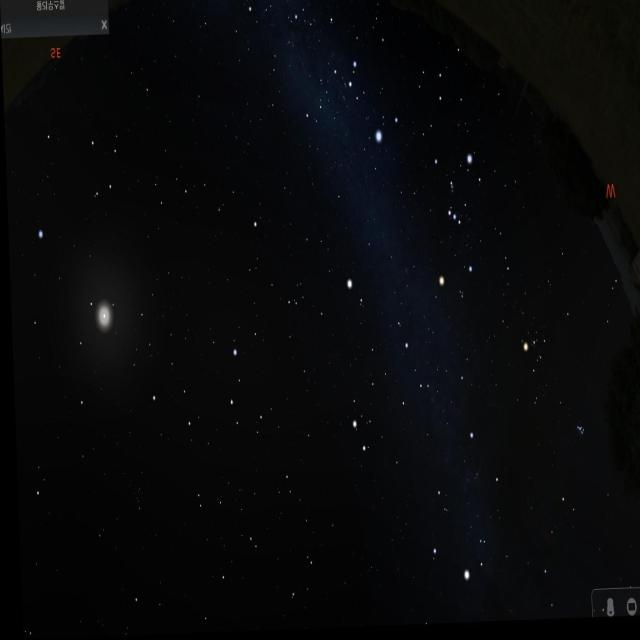canis_major: (343, 52, 403, 156)
canis_minor: (342, 274, 368, 319)
gemini: (334, 312, 434, 458)
leo: (146, 323, 272, 449)
moon: (79, 288, 118, 353)
orion: (425, 142, 482, 311)
pleiades: (569, 420, 587, 448)
taurus: (507, 314, 595, 469)
